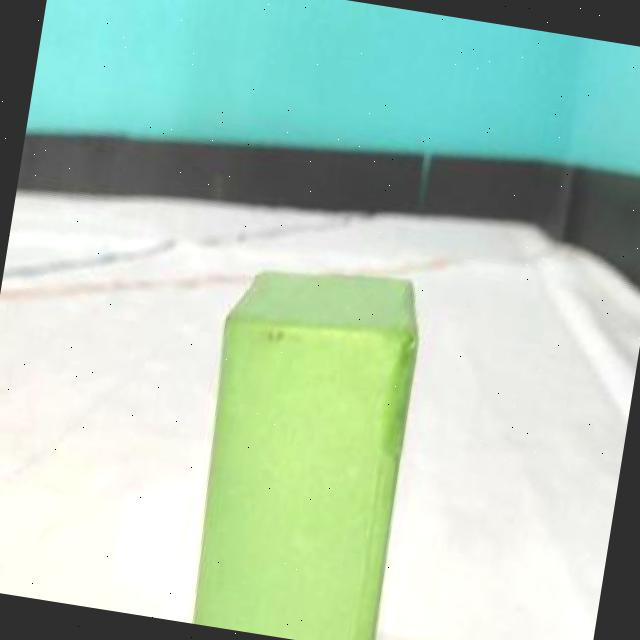greenbox: (172, 249, 432, 640)
